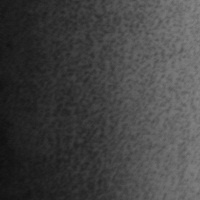pitted_surface: (12, 2, 174, 200)
